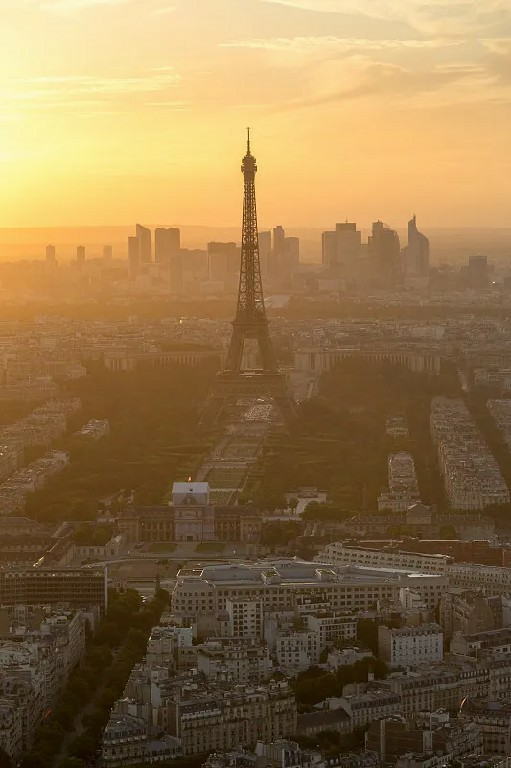Eiffel: (194, 127, 298, 436)
